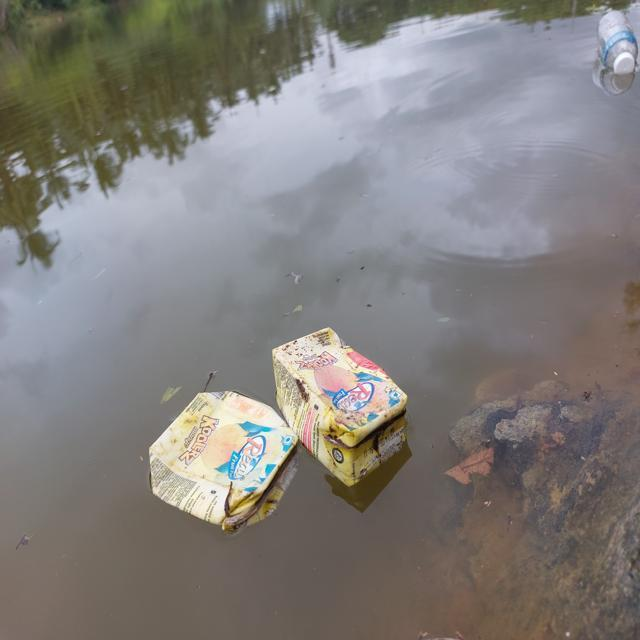paper: (267, 329, 414, 476), (143, 392, 287, 527)
